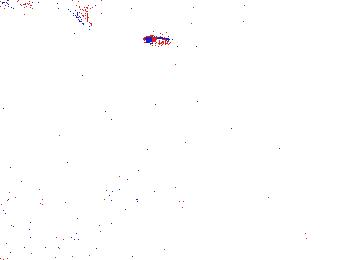X-ray fish: (270, 132, 317, 162)
red belly glassfish: (97, 174, 122, 201), (144, 33, 187, 48), (289, 174, 320, 190)
redtail glassfish: (1, 1, 102, 32)
